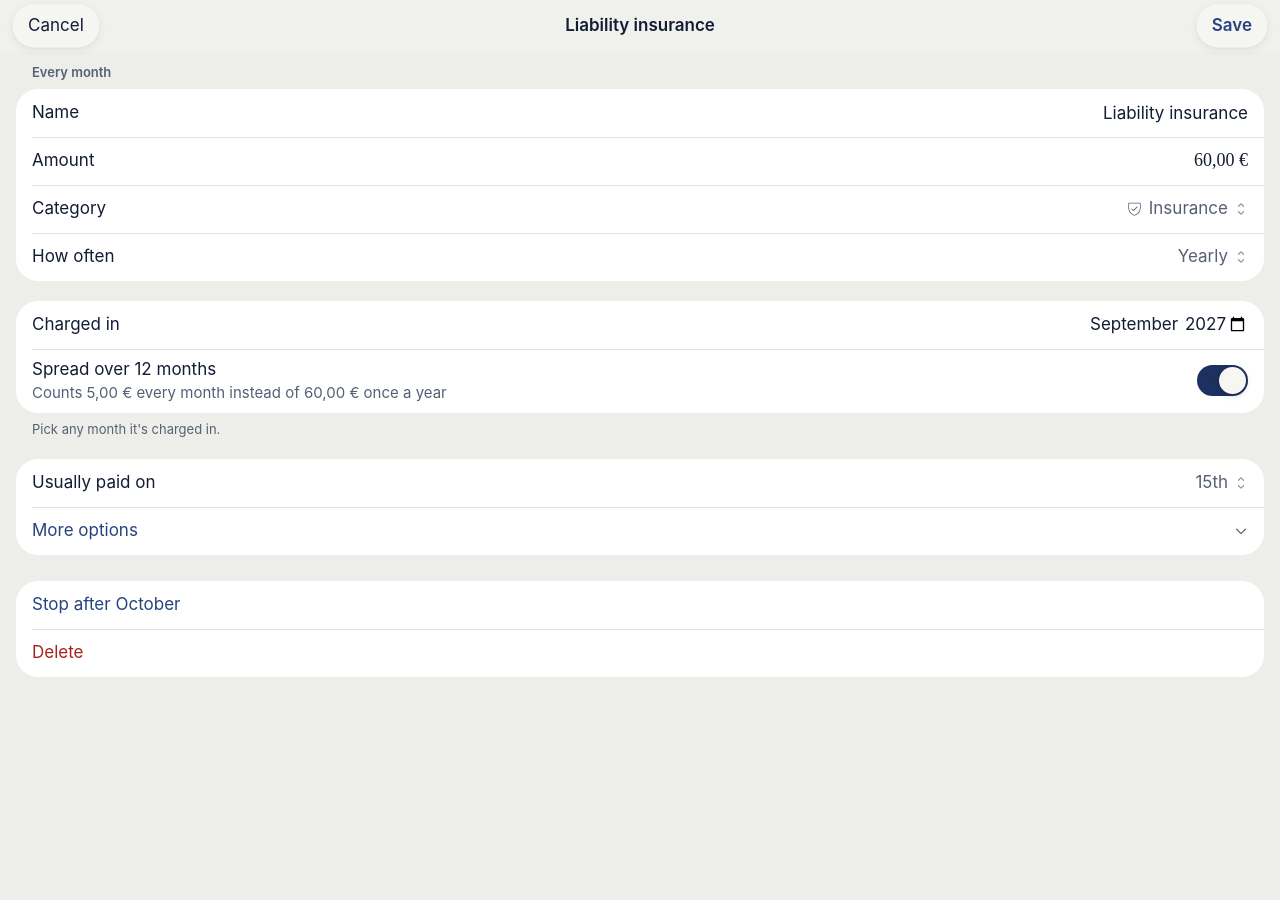
Scenario: a new schedule (§3.6) › says so for a new charge month, in place of the hint
This screenshot has width=1280, height=900.
expect the text "Pick any month it's charged in." is shown: met, box left=32, top=421, right=220, bottom=437
Replace the text in the field labelled "Charged in" with "2027-03" at (817, 325), box left=386, top=303, right=1248, bottom=347
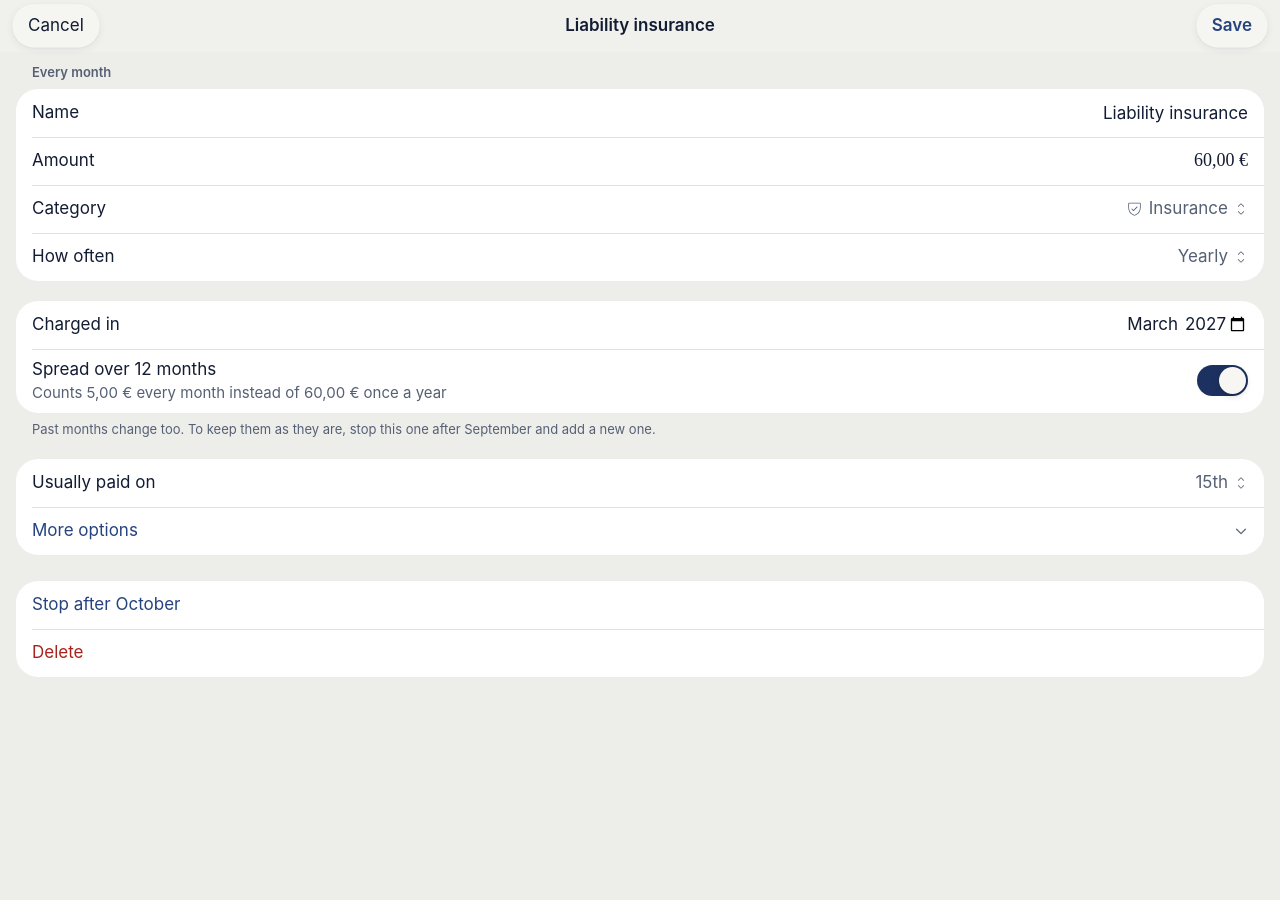
expect the text "Past months change too. To keep them as they are, stop this one after September and add a new one." is shown: met, box left=32, top=421, right=656, bottom=437
expect the text "Pick any month it's charged in." is gone: met
